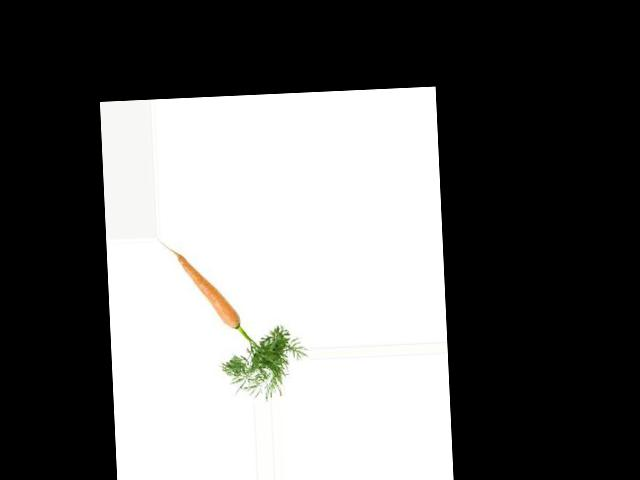carrot: (170, 244, 243, 331)
